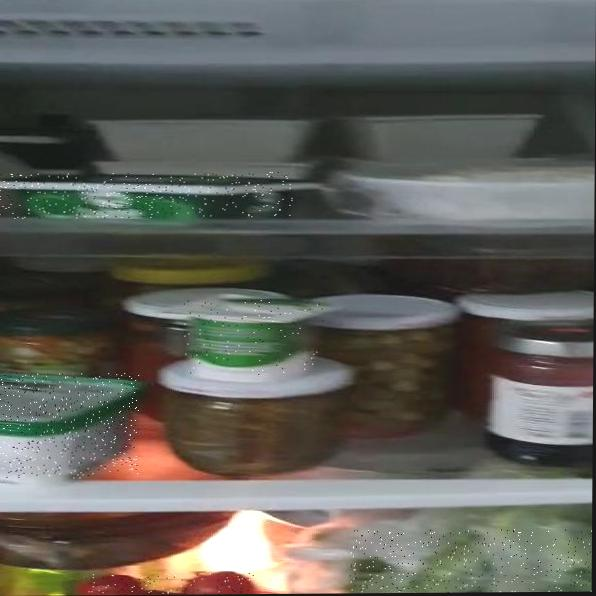cheese: (0, 372, 139, 479)
cream cheese: (0, 172, 293, 219)
lettuce: (350, 529, 592, 593)
tomato: (80, 573, 254, 595)
yoghurt: (183, 300, 324, 376)
